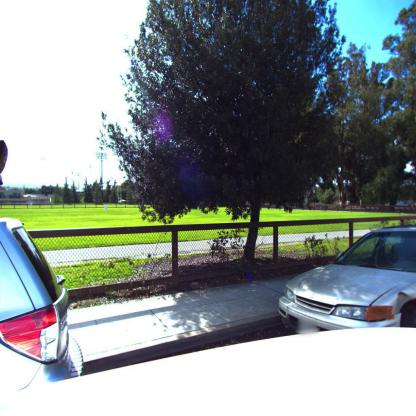car: (276, 225, 416, 332), (1, 208, 72, 378)
